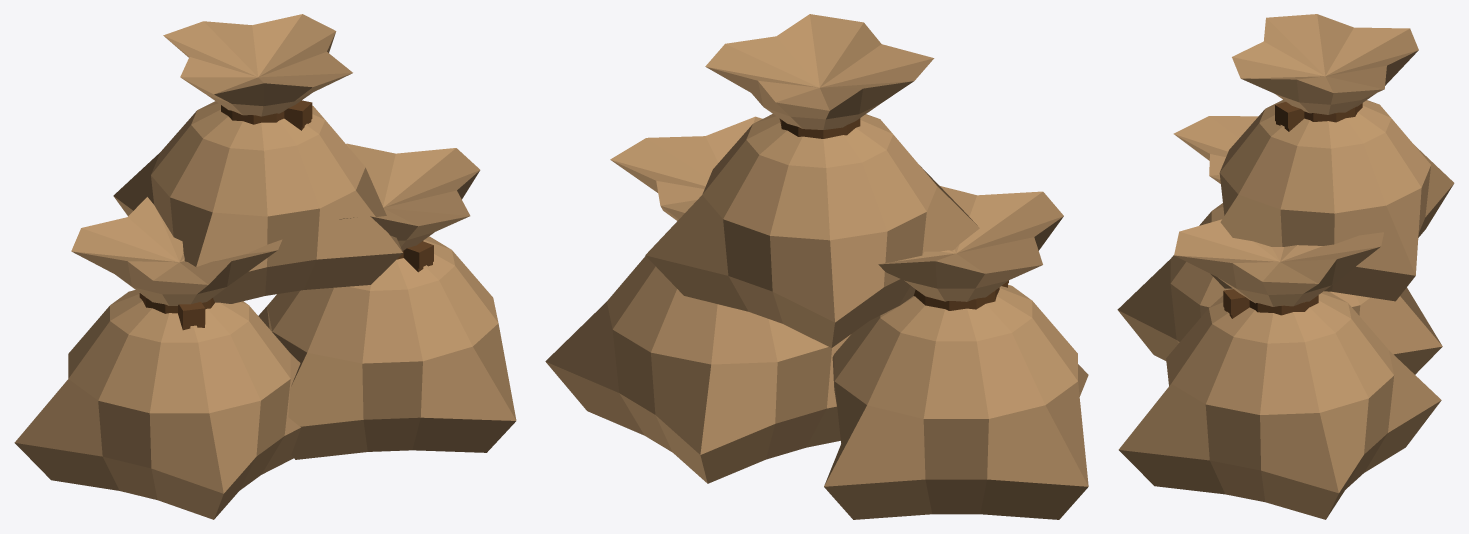
Rendered from sackss.fbx.
The picture shows the model from 3 angles, left to right: view 1: azimuth 30°, elevation 25°; view 2: azimuth 150°, elevation 25°; view 3: azimuth 270°, elevation 25°; orthographic projection. The views are drawn at different scales.
Visible parts, largest first — view 1: Construction_Props.002; view 2: Construction_Props.002; view 3: Construction_Props.002.
Boxes of the visible parts, x1,y1,x2,y2 form: Construction_Props.002: (14, 14, 516, 519); Construction_Props.002: (545, 14, 1088, 519); Construction_Props.002: (1117, 14, 1454, 519).
Size of the model in its own units: 221 by 162 by 134.
